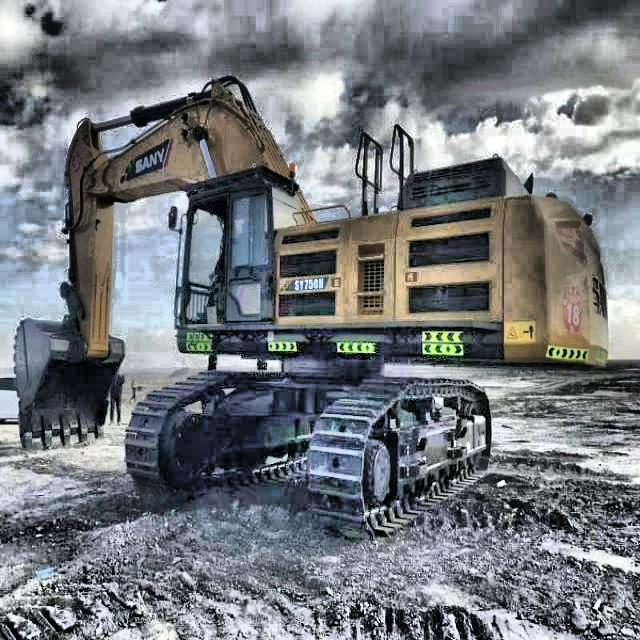excavator: (14, 73, 612, 536)
